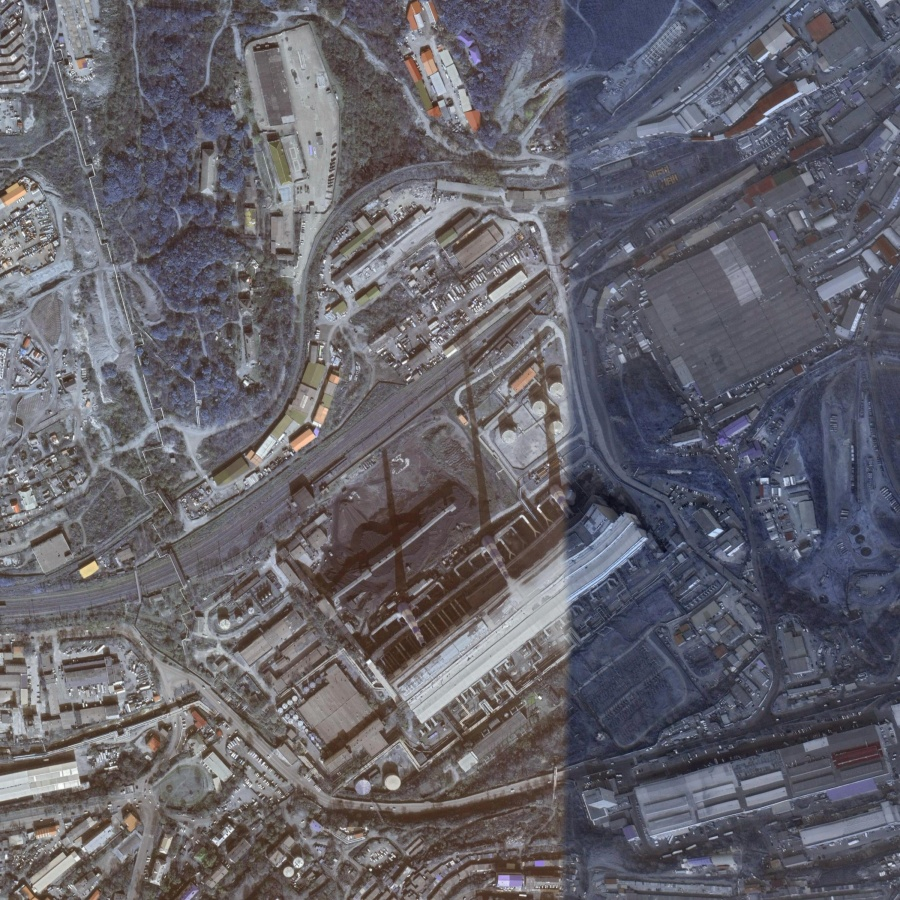PowerPlant: (316, 358, 644, 726)
